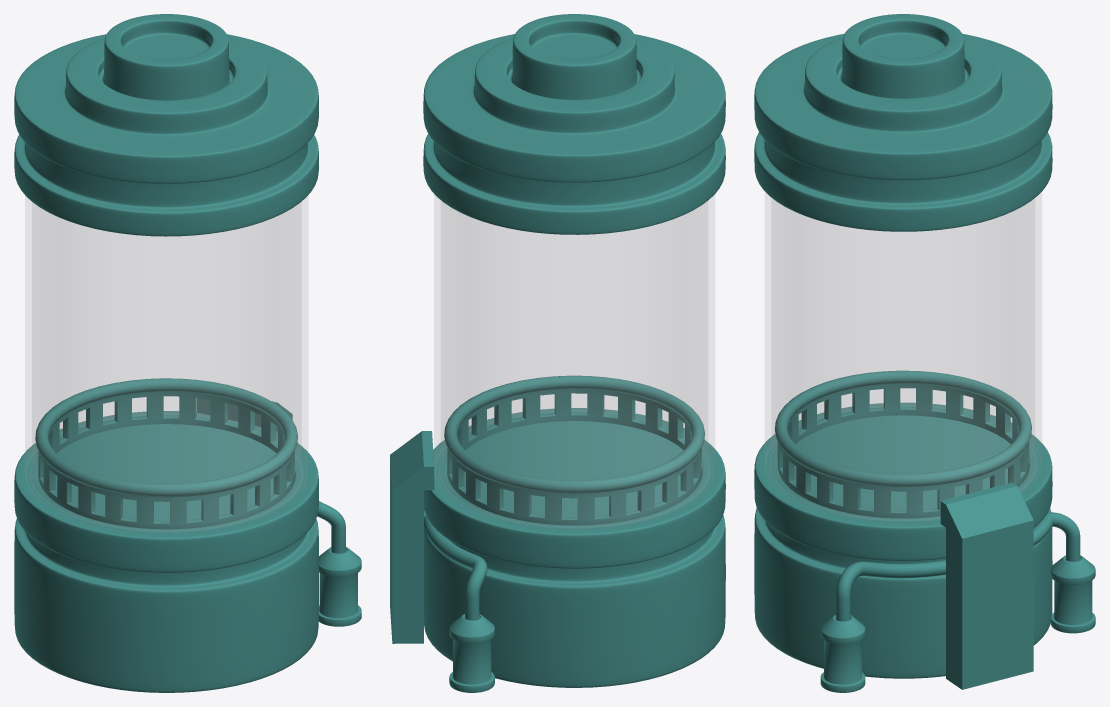
The model's file is LiquidMeche.fbx.
The picture shows the model from 3 angles, left to right: view 1: azimuth 30°, elevation 25°; view 2: azimuth 150°, elevation 25°; view 3: azimuth 270°, elevation 25°; orthographic projection. The views are drawn at different scales.
Parts seen in each view (by area): view 1: Vidro, ParteDeCima, BaseCilindricaExterior, CimaDaBaseTorus, Cylinder.031, Cylinder.030, Cube.015; view 2: Vidro, ParteDeCima, BaseCilindricaExterior, CimaDaBaseTorus, Cube.015, Cylinder.031, Cylinder.030; view 3: Vidro, ParteDeCima, BaseCilindricaExterior, CimaDaBaseTorus, Cube.015, Cylinder.031, Cylinder.030.
Part boxes in pixels (x1=…): Vidro: x1=25, y1=196, x2=307, y2=531; ParteDeCima: x1=14, y1=14, x2=318, y2=236; BaseCilindricaExterior: x1=14, y1=411, x2=318, y2=692; CimaDaBaseTorus: x1=35, y1=378, x2=297, y2=529; Cylinder.031: x1=318, y1=547, x2=361, y2=626; Cylinder.030: x1=317, y1=501, x2=345, y2=553; Cube.015: x1=197, y1=398, x2=292, y2=431; Vidro: x1=434, y1=195, x2=714, y2=527; ParteDeCima: x1=423, y1=14, x2=725, y2=234; BaseCilindricaExterior: x1=424, y1=408, x2=725, y2=687; CimaDaBaseTorus: x1=444, y1=375, x2=704, y2=525; Cube.015: x1=390, y1=431, x2=434, y2=643; Cylinder.031: x1=449, y1=614, x2=494, y2=692; Cylinder.030: x1=424, y1=507, x2=487, y2=620; Vidro: x1=765, y1=192, x2=1041, y2=520; ParteDeCima: x1=754, y1=14, x2=1052, y2=231; BaseCilindricaExterior: x1=754, y1=402, x2=1052, y2=678; CimaDaBaseTorus: x1=775, y1=370, x2=1031, y2=518; Cube.015: x1=940, y1=482, x2=1033, y2=689; Cylinder.031: x1=820, y1=555, x2=1095, y2=692; Cylinder.030: x1=836, y1=512, x2=1080, y2=621.
Bounding box in the file's own units: 232 × 446 × 239.
